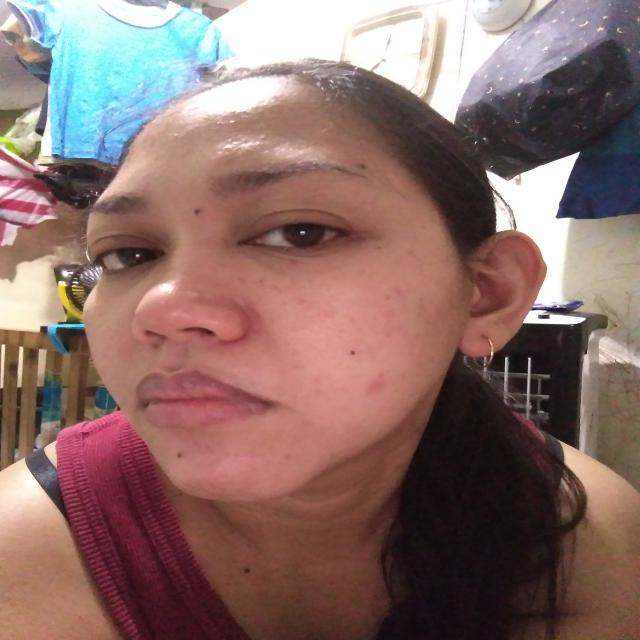Acne: (363, 375, 385, 404), (393, 281, 411, 299), (321, 310, 338, 323), (378, 331, 394, 344), (189, 286, 206, 298), (279, 454, 295, 465), (293, 296, 309, 306)
Eyebags: (241, 238, 347, 284)
